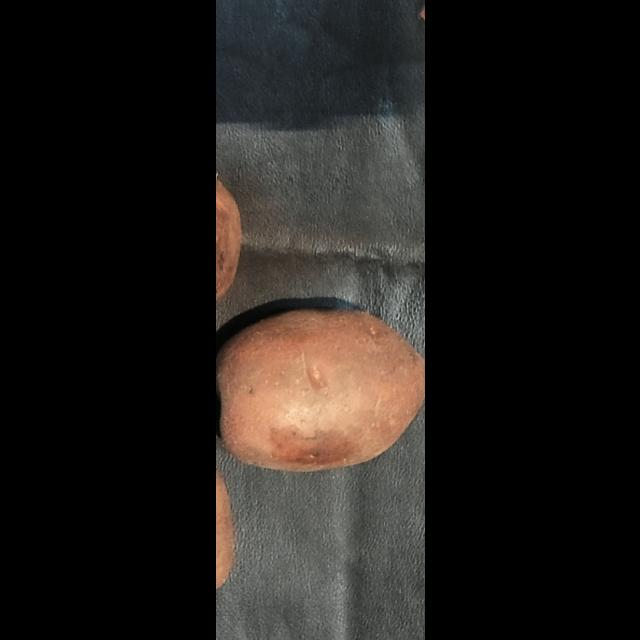Diseased-fungal potato: (215, 298, 423, 488)
